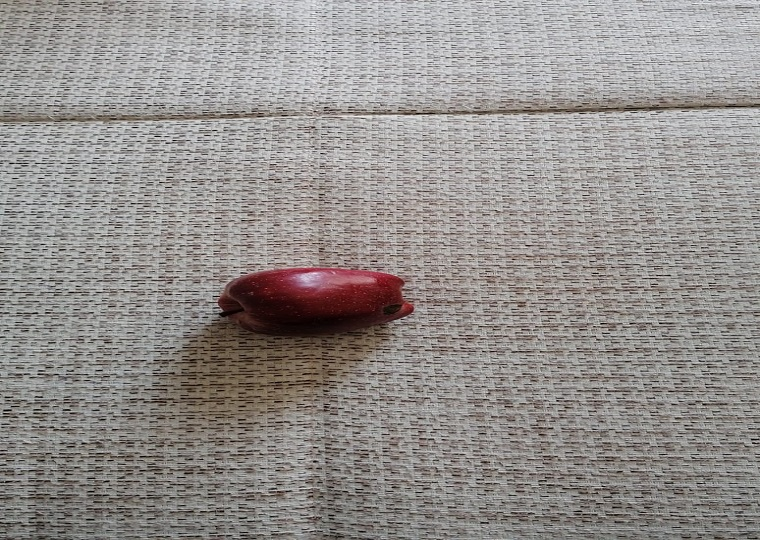elma: (216, 267, 417, 337)
